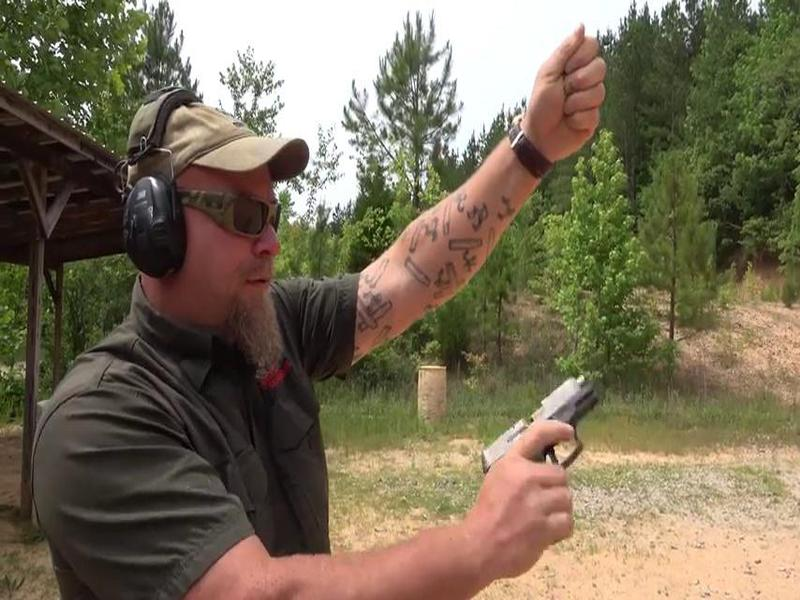Pistola: (451, 365, 627, 571)
